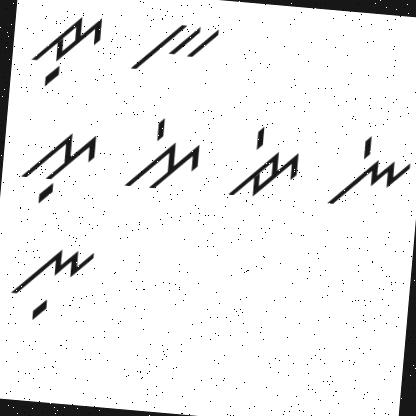je: (224, 117, 308, 205)
ju: (19, 4, 110, 92)
nye: (324, 126, 416, 218)
nyu: (0, 238, 102, 327)
se: (116, 113, 206, 205)
su: (17, 122, 106, 212)
